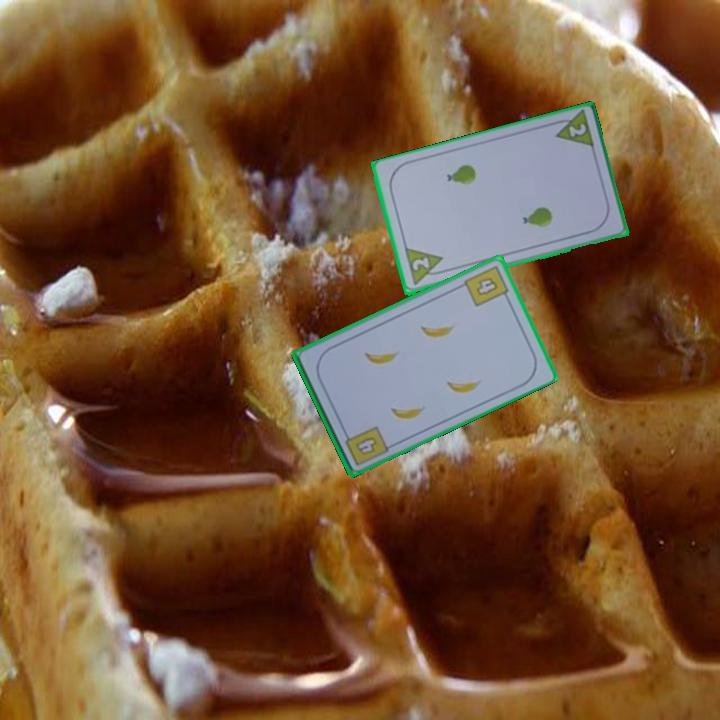2p: (548, 108, 597, 152), (401, 245, 449, 289)
4b: (460, 262, 513, 309), (340, 422, 391, 469)
